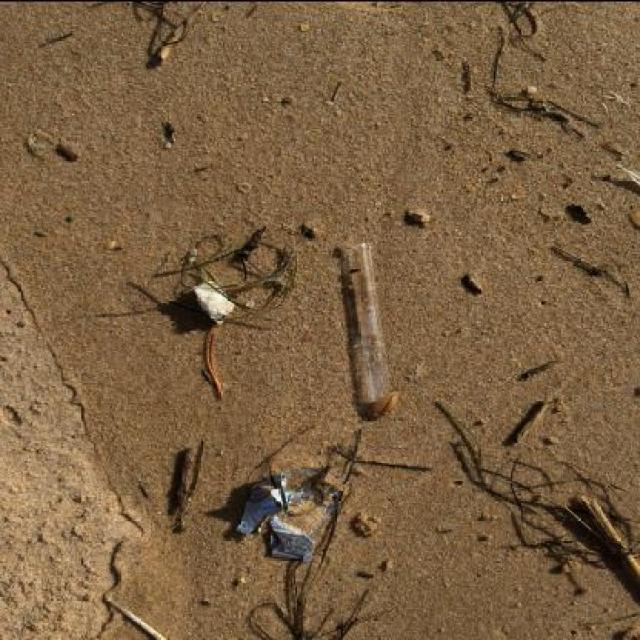foam: (194, 280, 234, 323)
plastic: (236, 465, 346, 561)
